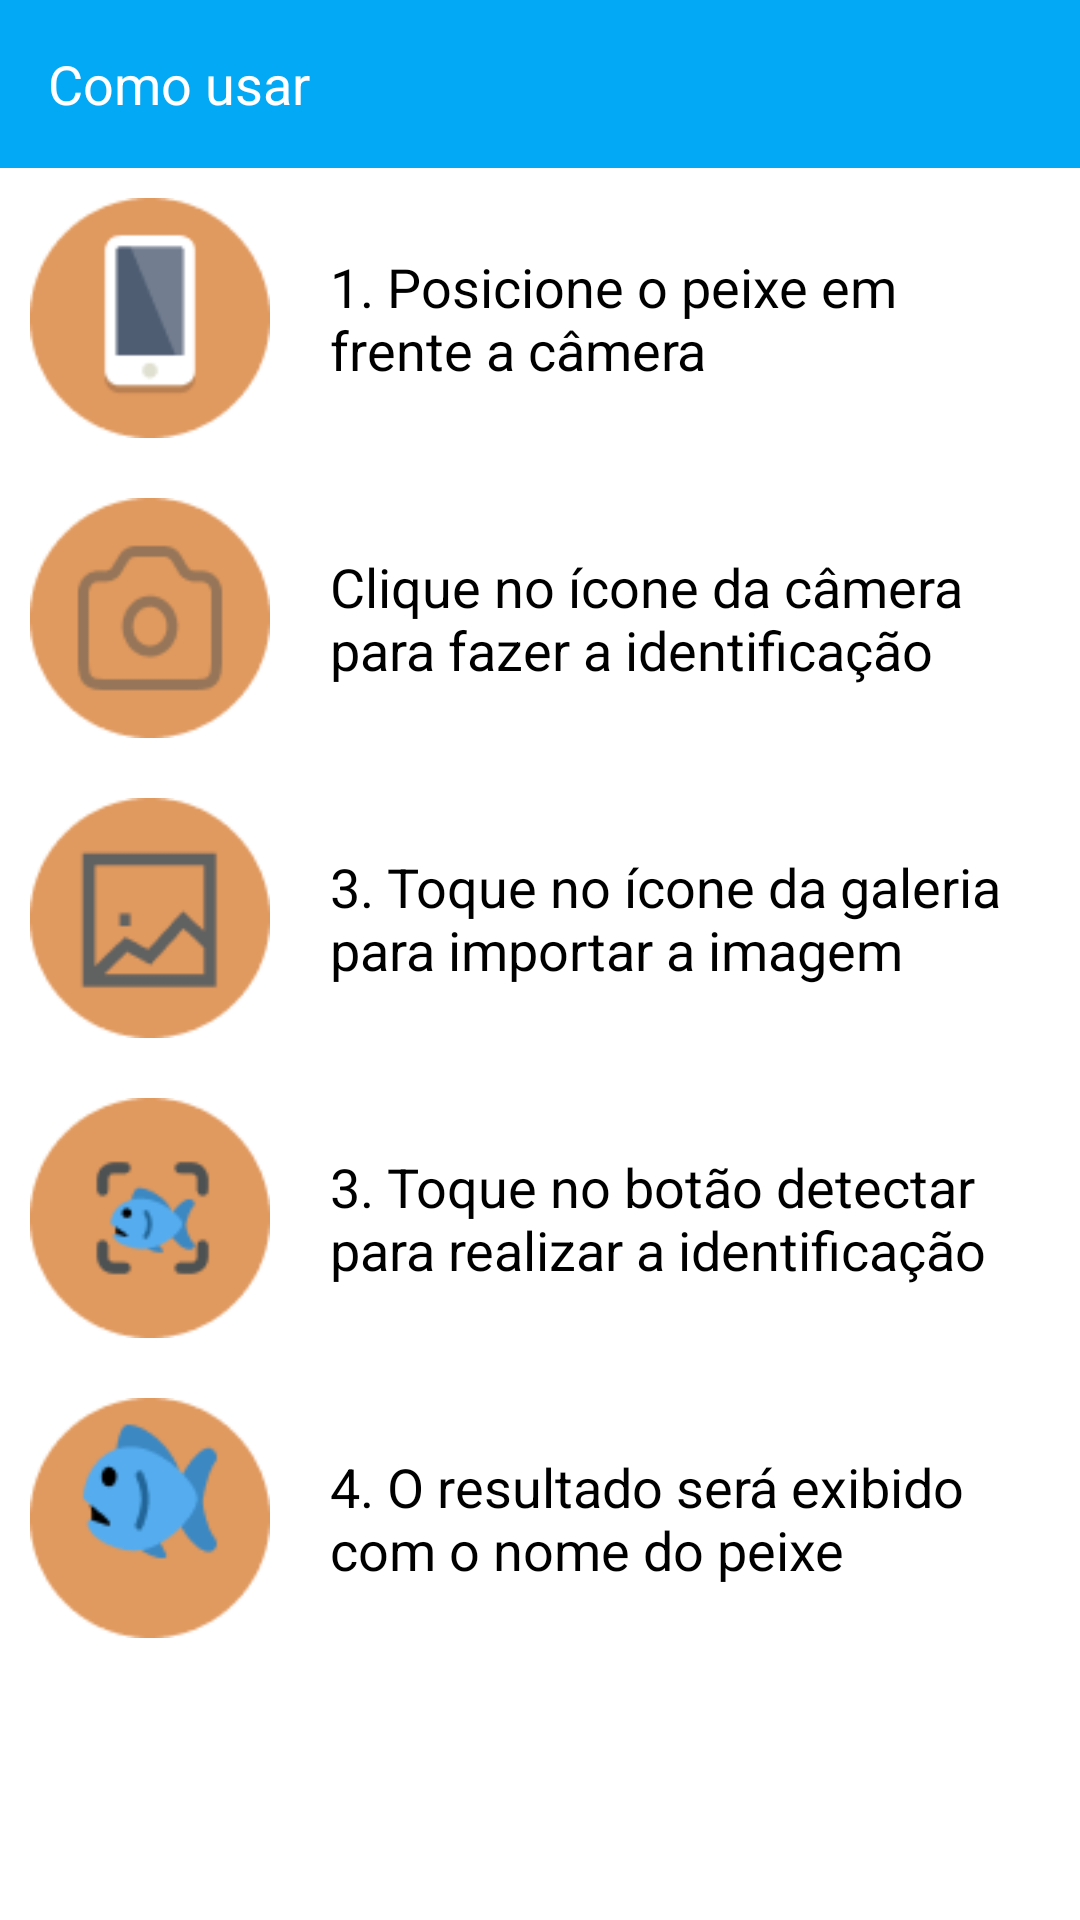

Where icons sit on this 1080px x 1920px app screen, as box(x1, y1, x2, y2):
camera: box(30, 498, 270, 738)
telefone: box(30, 198, 270, 438)
